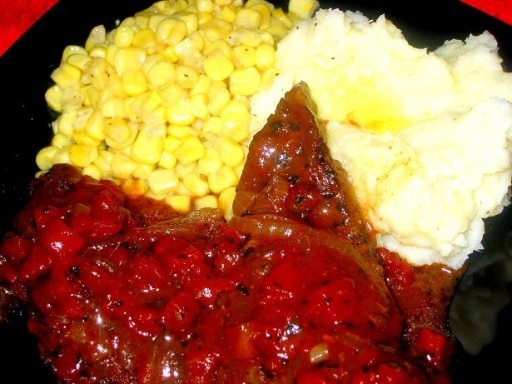background: (0, 0, 410, 230)
